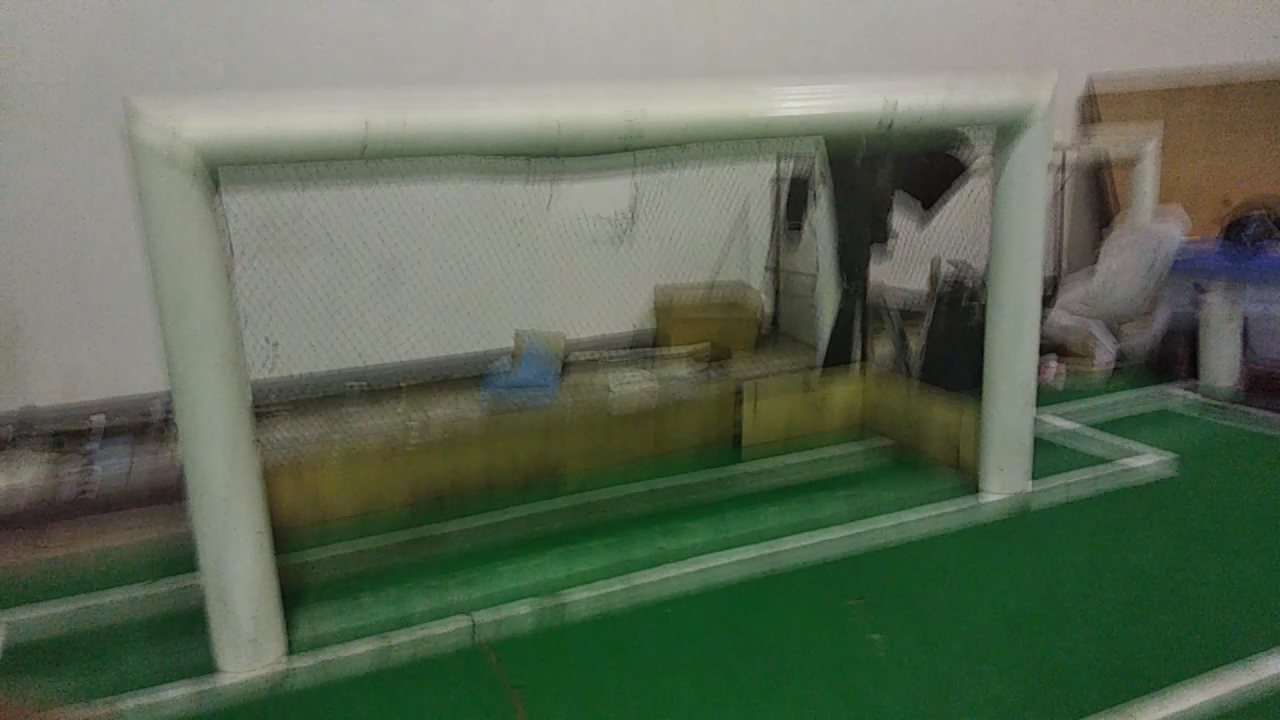gawang: (102, 65, 1080, 715)
